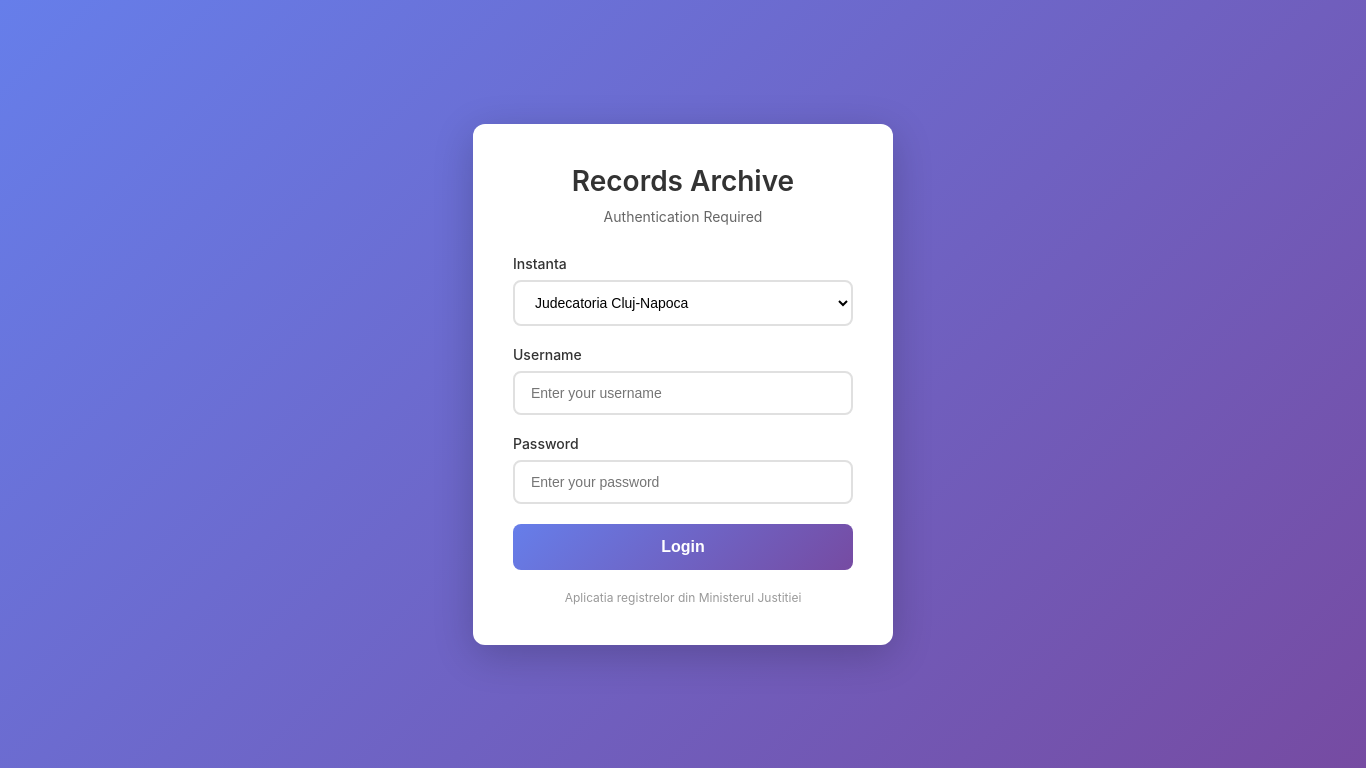
Test: LoginPage › should show error when password is empty
Type "testuser" into the field labelled "Username" at point(683, 392), box [513,370,853,414]
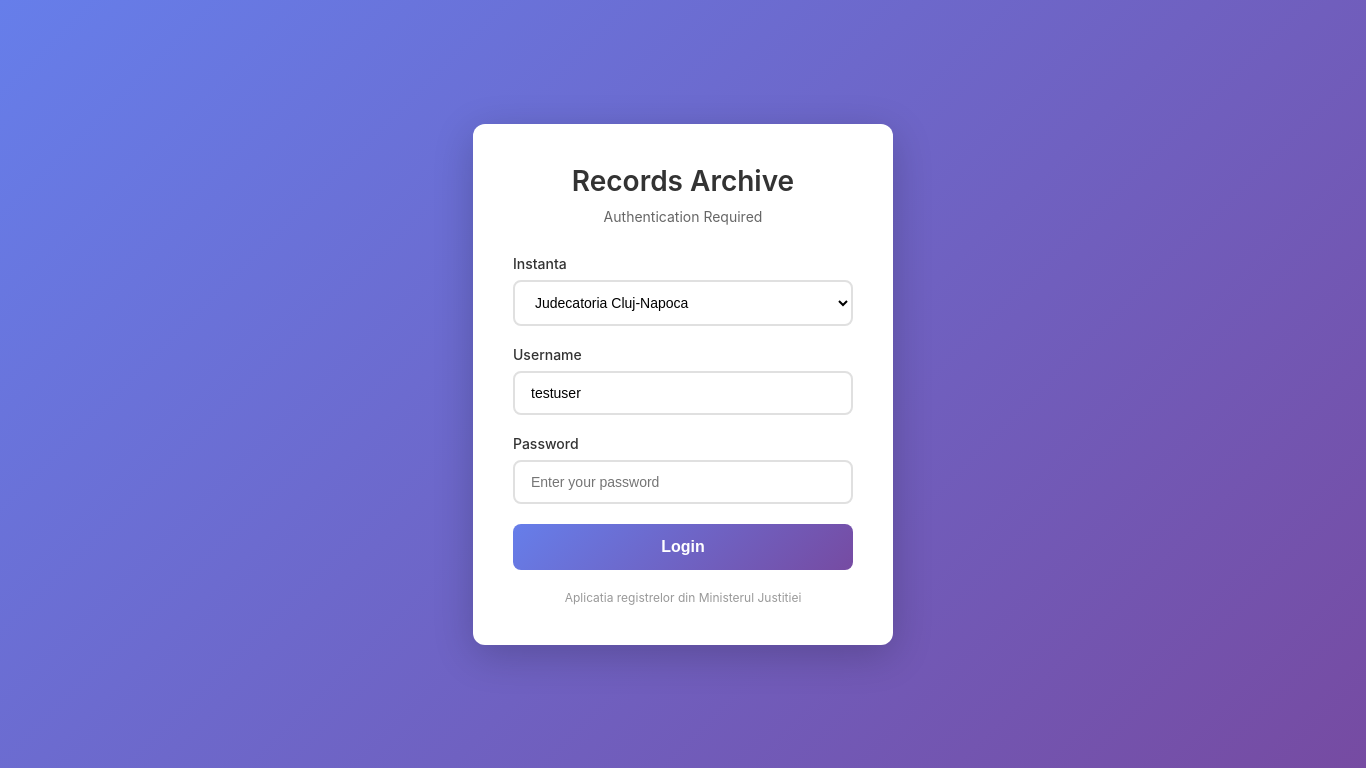
Click the button "Login" at point(683, 546), box [513,524,853,570]
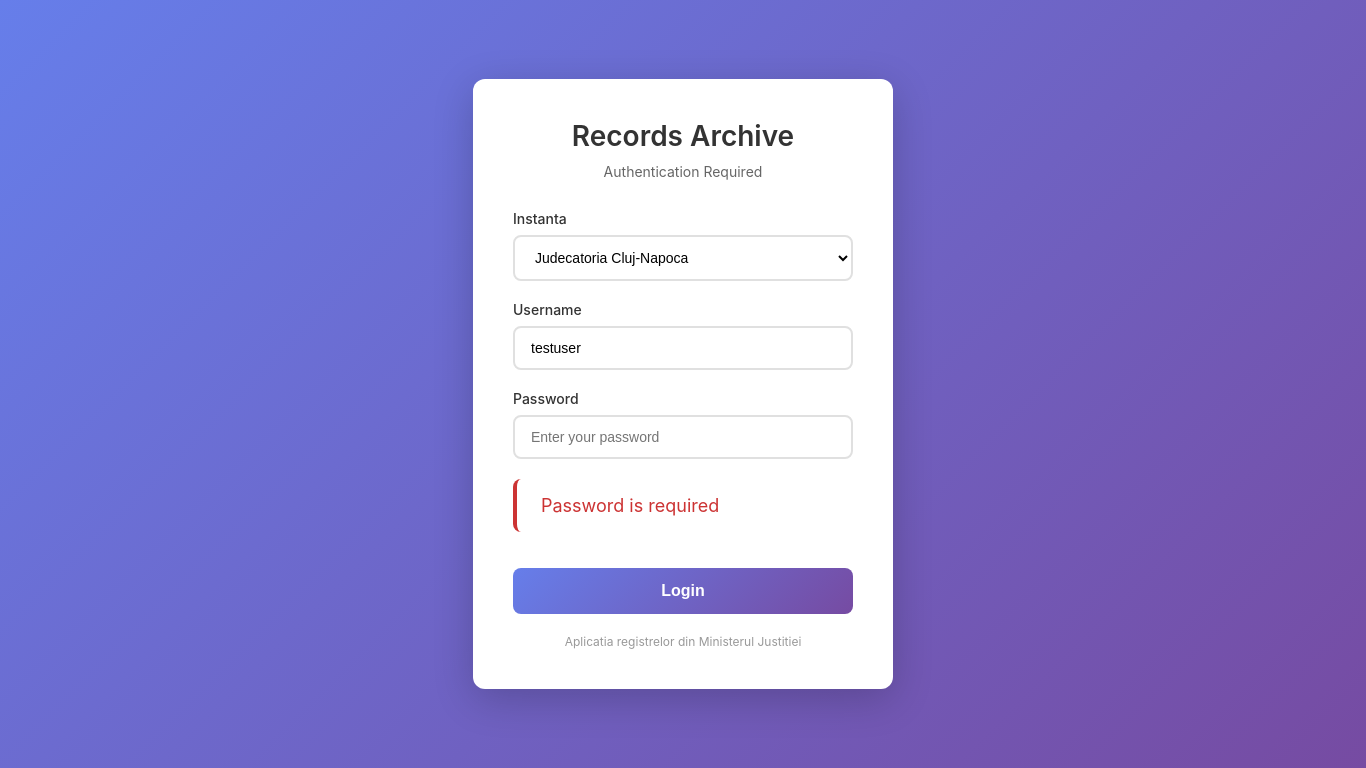
Check: the text "Password is required" is shown, box [513,479,853,532]
